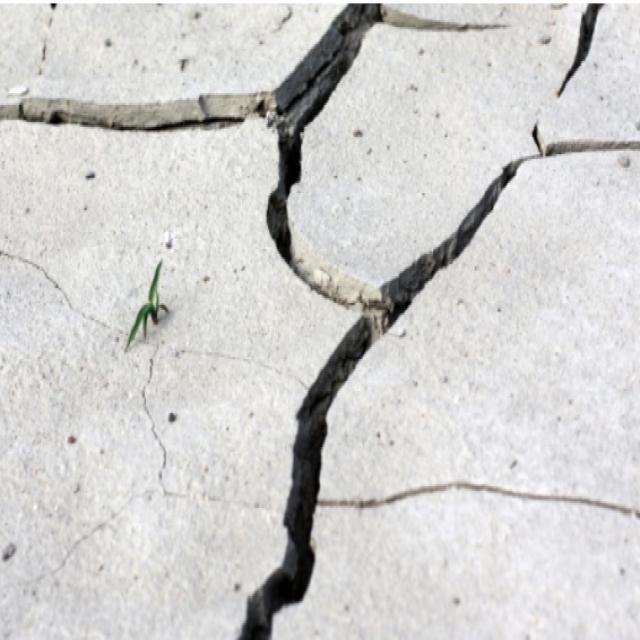branched cracks: (0, 4, 639, 639), (557, 3, 602, 96)
